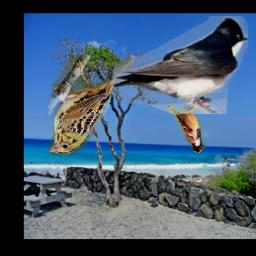Sparrow: (47, 55, 137, 155), (168, 105, 206, 154)
Swallow: (112, 17, 247, 115)
